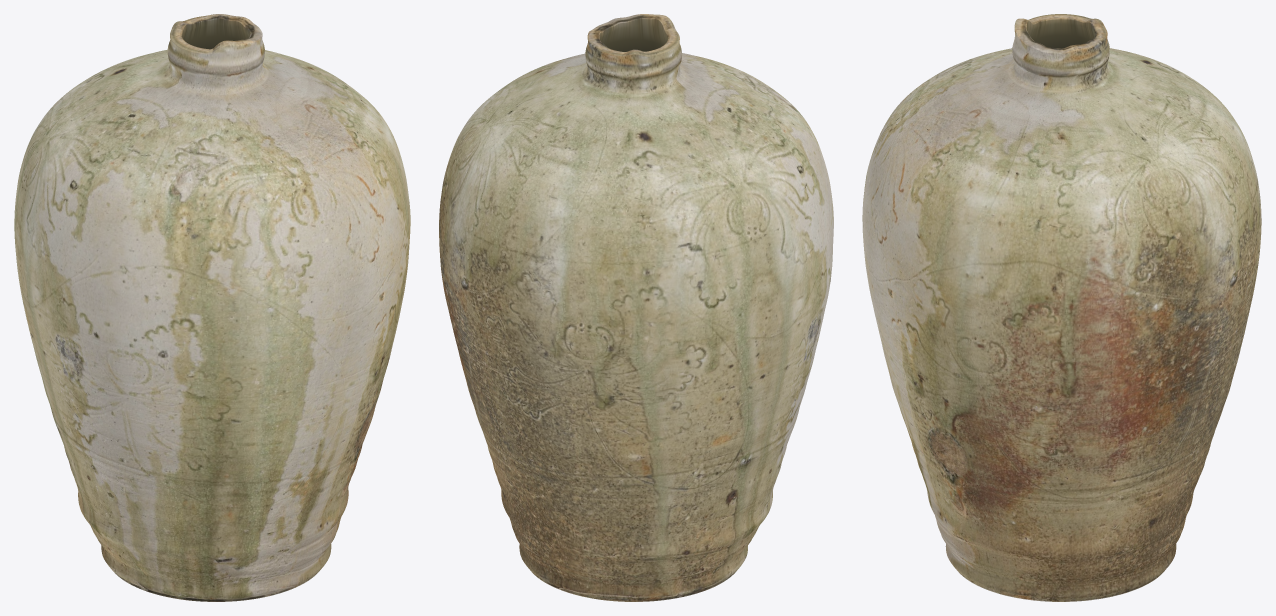
File: comparison-1.glb
3 views of the same model, side by side, from view 1: azimuth 30°, elevation 25°; view 2: azimuth 150°, elevation 25°; view 3: azimuth 270°, elevation 25° (orthographic).
Visible parts, largest first — view 1: Japanese peony vase · photo-derived approximation; view 2: Japanese peony vase · photo-derived approximation; view 3: Japanese peony vase · photo-derived approximation.
Part boxes in pixels (bbox=[...]): Japanese peony vase · photo-derived approximation: bbox=[14, 14, 410, 601]; Japanese peony vase · photo-derived approximation: bbox=[439, 14, 833, 601]; Japanese peony vase · photo-derived approximation: bbox=[862, 14, 1261, 601].
Size of the model in its own units: 0.6833 by 1.01 by 0.6866.
1 material, 1 textured.
